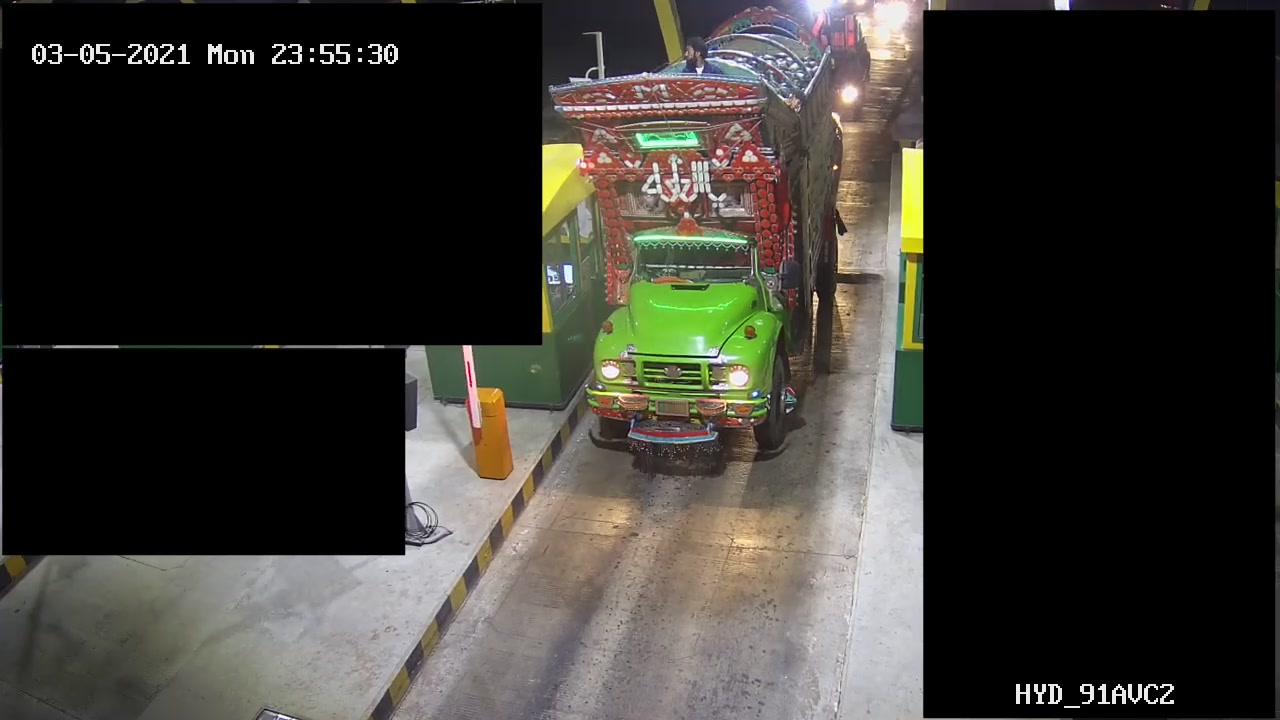F5: (543, 1, 834, 489)
